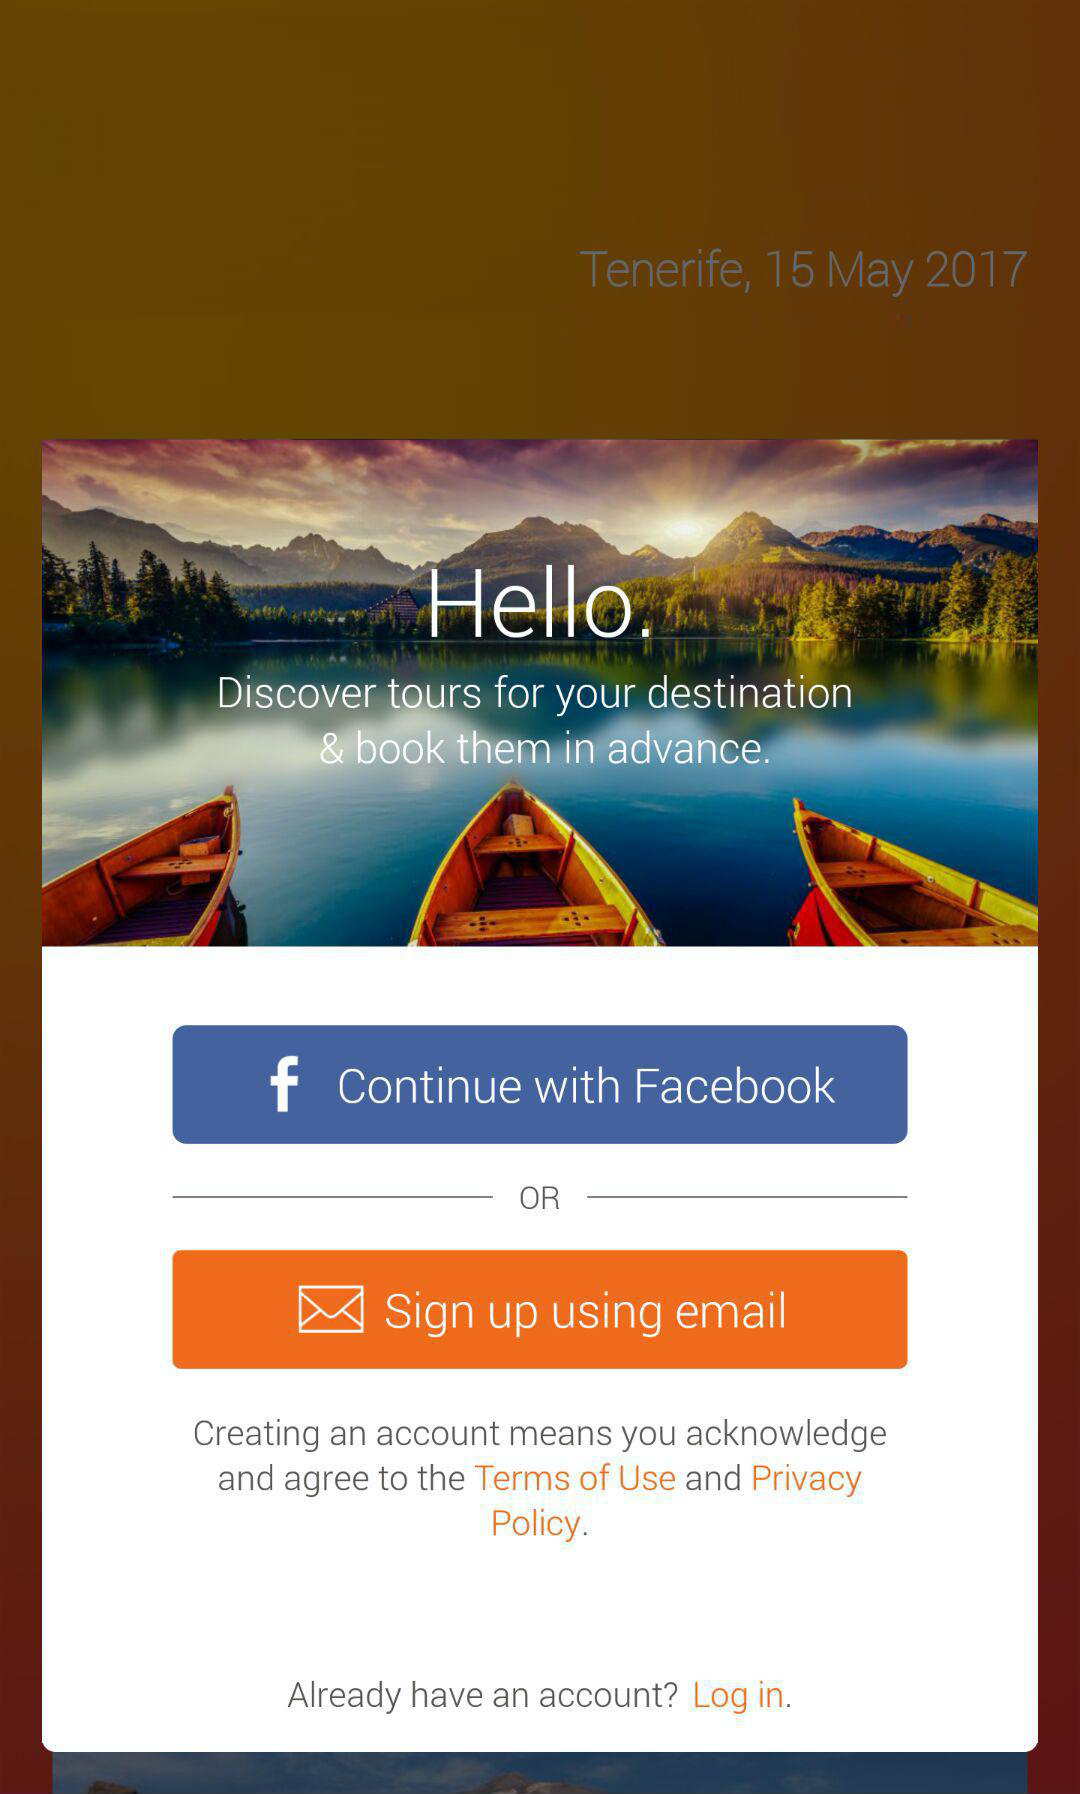Image: (42, 440, 1038, 947)
Modal: (42, 440, 1038, 1753)
Text: (195, 1417, 888, 1544), (219, 674, 853, 765), (578, 249, 1029, 300), (288, 1679, 790, 1715), (430, 564, 651, 639), (520, 1184, 560, 1211)
TextButton: (172, 1025, 910, 1146), (173, 1249, 910, 1370)
